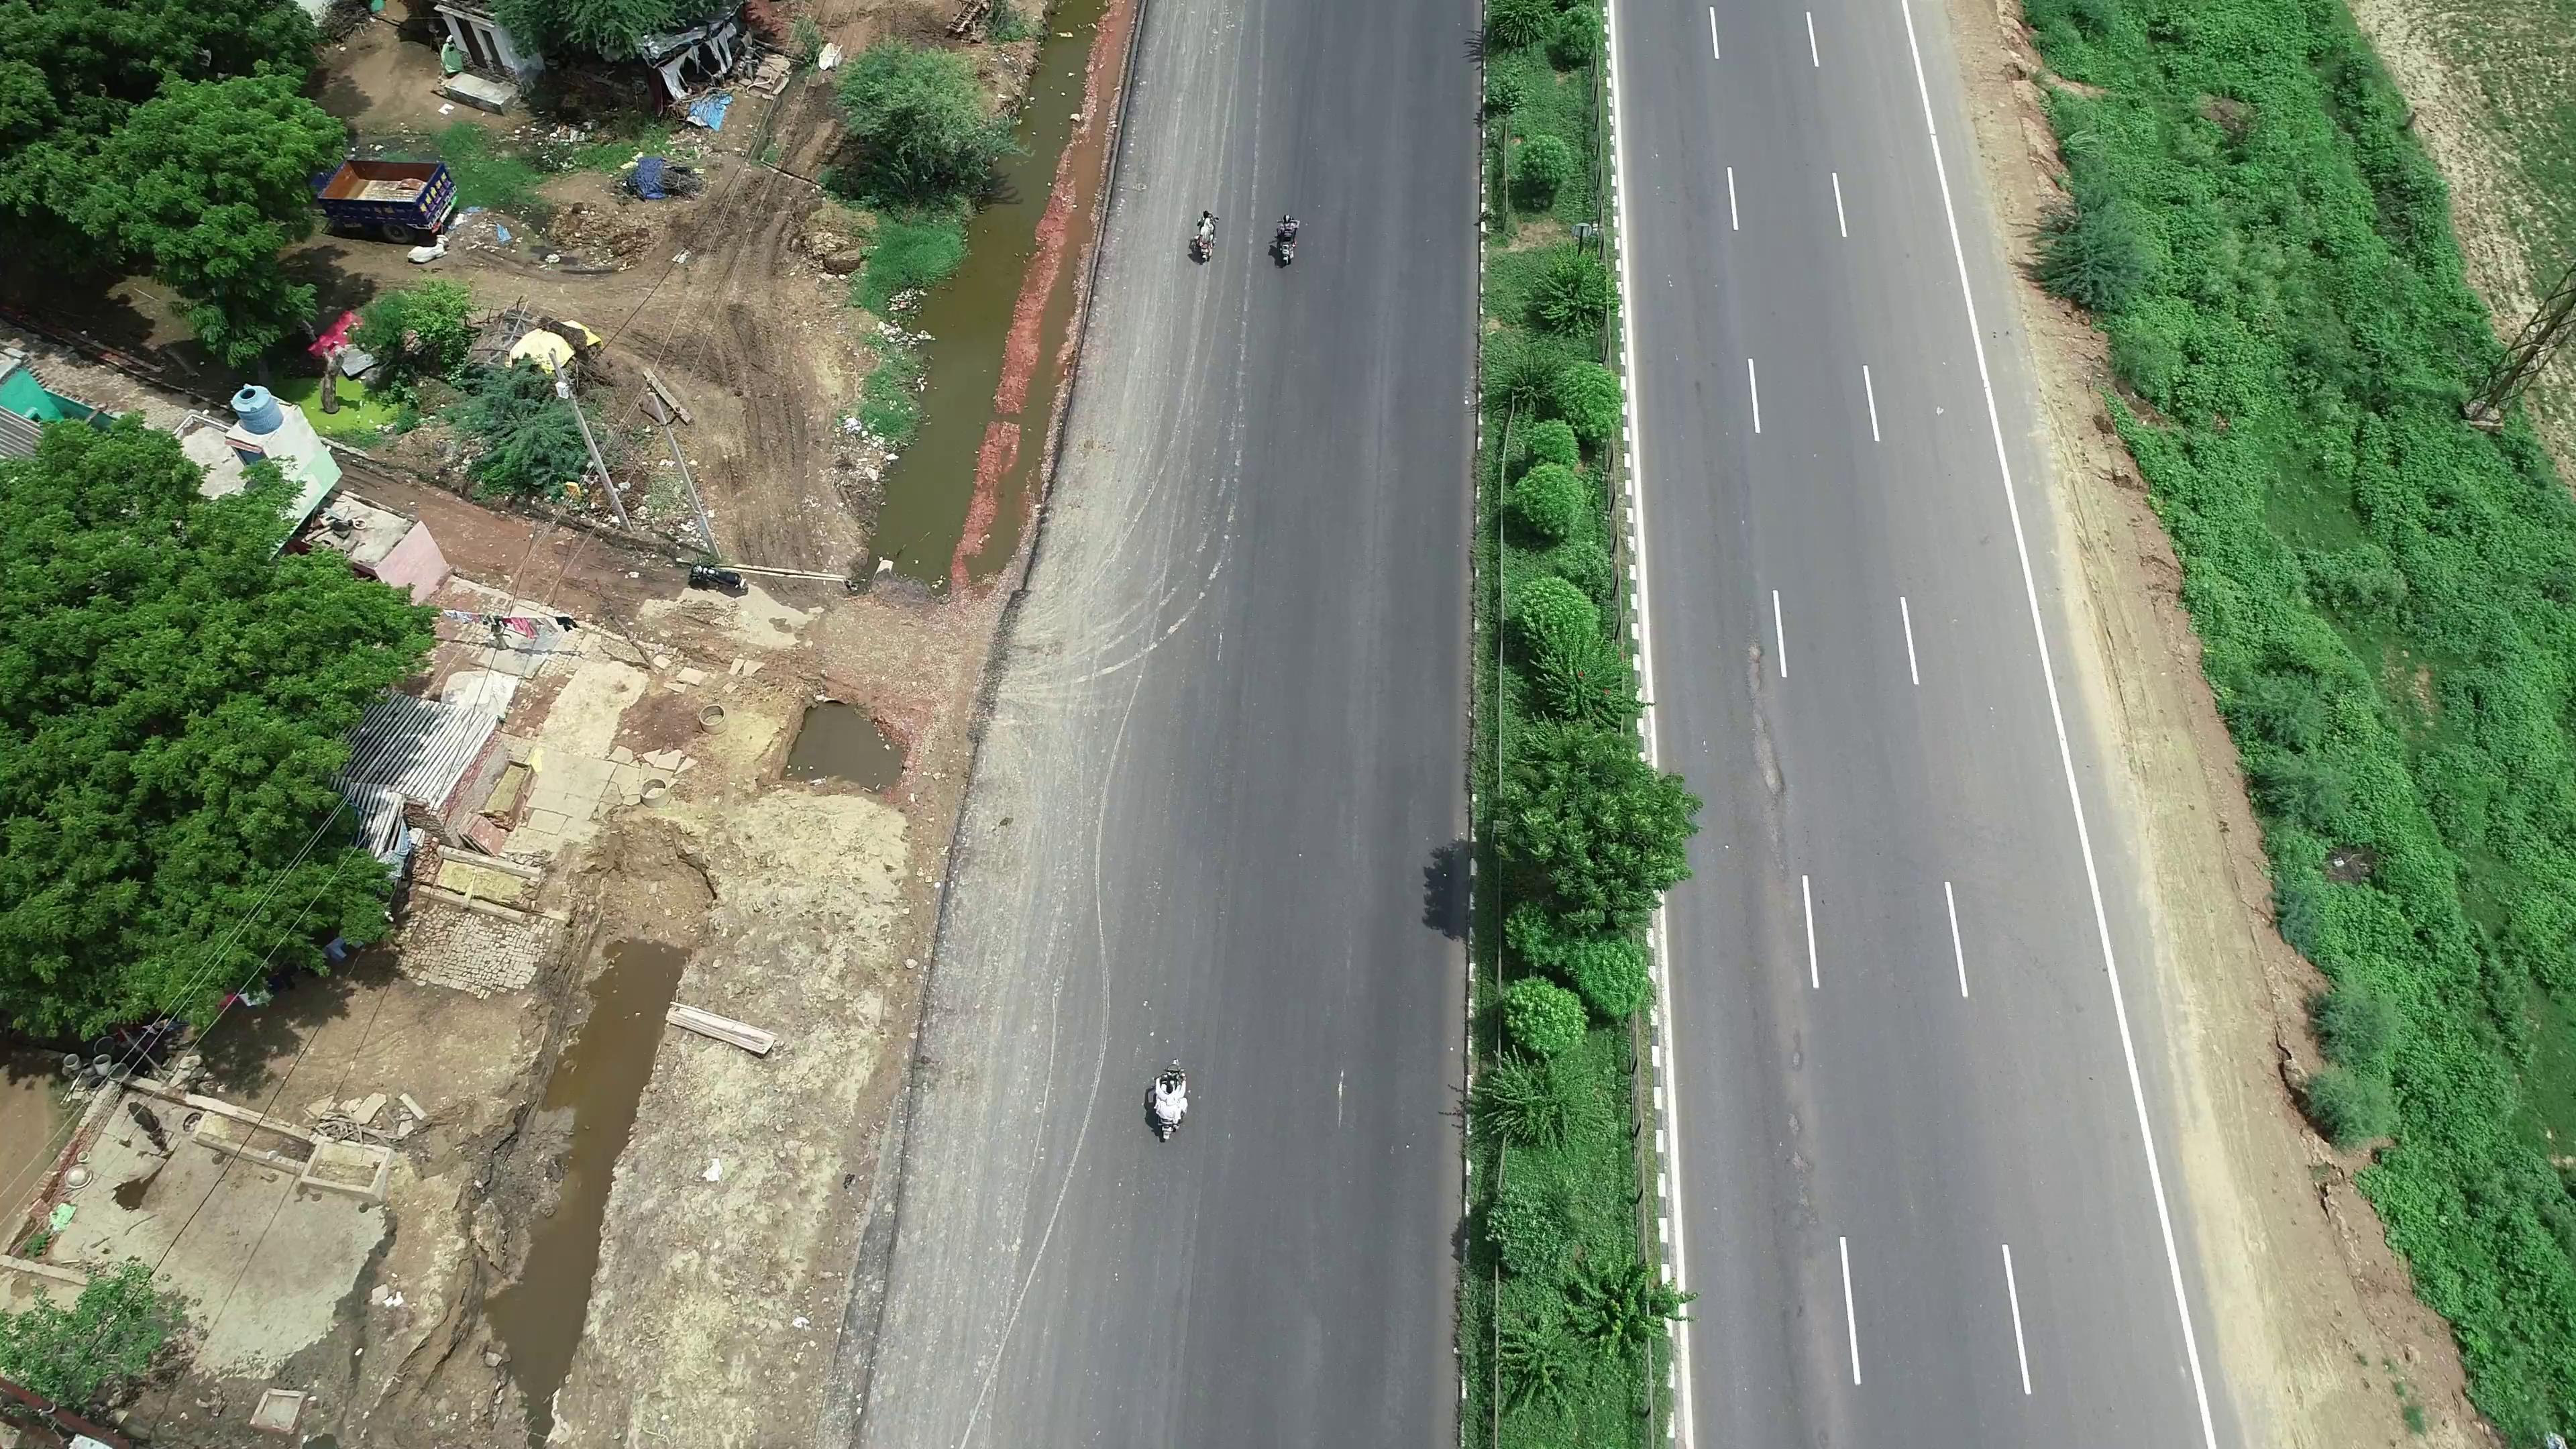Ravelling: (1766, 1028, 1833, 1231), (1736, 632, 1792, 821)
